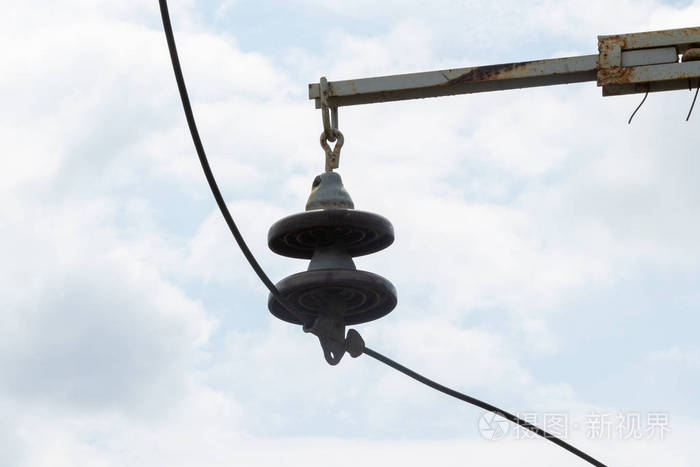insulator: (268, 207, 401, 322)
